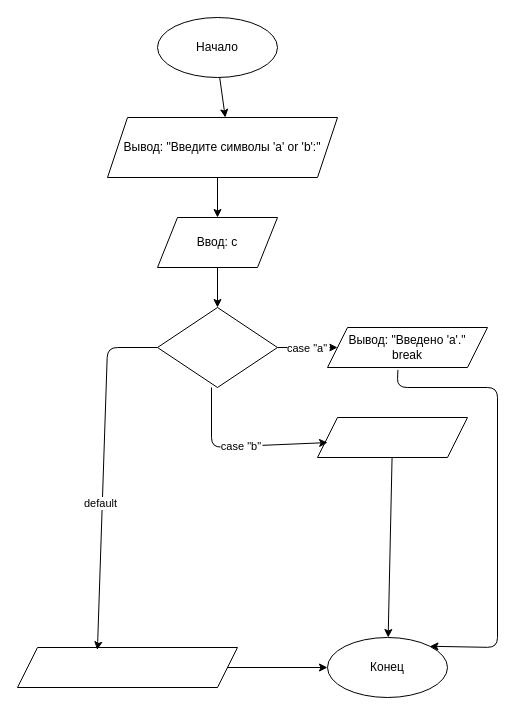
Some shapes in this 523 by 715 pixel diagram are drawn without their labels. The box of each missing label's shape, as (x1, y1, x2, y2) in pixels:
switch: (156, 306, 278, 388)
Вывод: "Введено 'b'." break: (316, 416, 468, 458)
Вывод: "Неизвестный символ": (16, 646, 238, 688)
